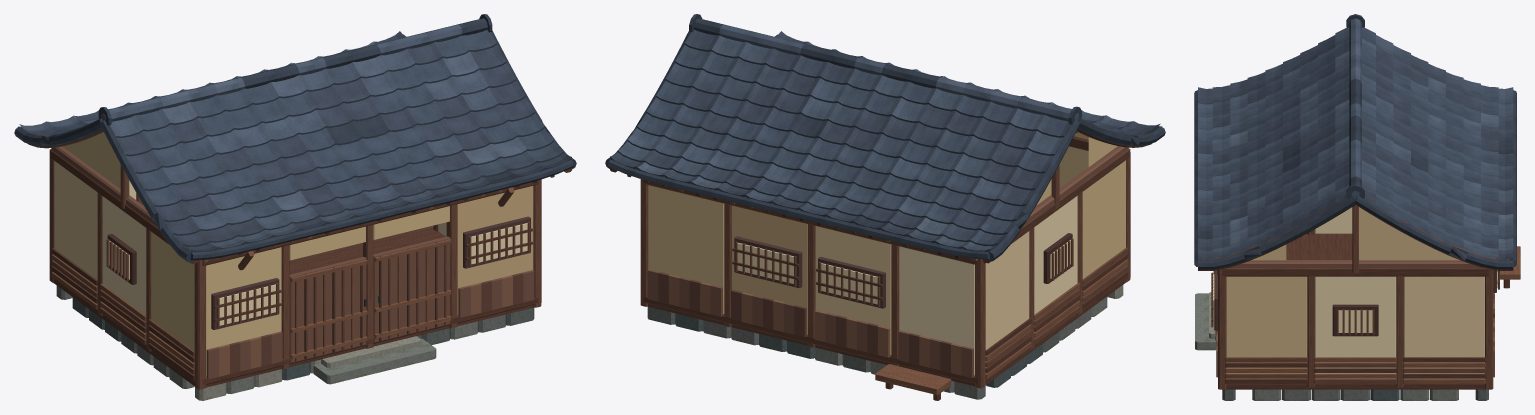
File: house.glb
3 renders of one model, left to right at view 1: azimuth 30°, elevation 25°; view 2: azimuth 150°, elevation 25°; view 3: azimuth 270°, elevation 25°, orthographic. The views are drawn at different scales.
Parts seen in each view (by area): view 1: Fired roof tiles and ridge caps, Plaster, infill and lattice, Timber frame, sill, tongue-and-groove soffit and rafters, Cut stone foundations and steps; view 2: Fired roof tiles and ridge caps, Plaster, infill and lattice, Timber frame, sill, tongue-and-groove soffit and rafters, Cut stone foundations and steps; view 3: Fired roof tiles and ridge caps, Plaster, infill and lattice, Timber frame, sill, tongue-and-groove soffit and rafters, Cut stone foundations and steps.
Boxes of the visible parts, x1,y1,x2,y2 form: Fired roof tiles and ridge caps: (14, 14, 576, 262); Plaster, infill and lattice: (51, 132, 534, 379); Timber frame, sill, tongue-and-groove soffit and rafters: (27, 47, 571, 389); Cut stone foundations and steps: (56, 285, 534, 400); Fired roof tiles and ridge caps: (605, 14, 1165, 261); Plaster, infill and lattice: (647, 132, 1128, 377); Timber frame, sill, tongue-and-groove soffit and rafters: (610, 39, 1152, 400); Cut stone foundations and steps: (647, 285, 1123, 399); Fired roof tiles and ridge caps: (1194, 14, 1516, 269); Plaster, infill and lattice: (1213, 207, 1497, 378); Timber frame, sill, tongue-and-groove soffit and rafters: (1198, 198, 1520, 389); Cut stone foundations and steps: (1195, 292, 1488, 400).
Bounding box in the file's own units: 9.31 × 5.61 × 7.35.
5 materials, 3 textured.
